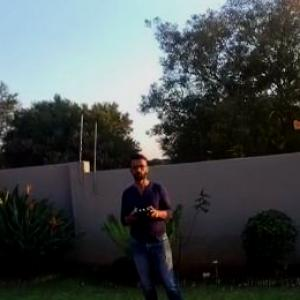follow: (116, 150, 200, 299)
